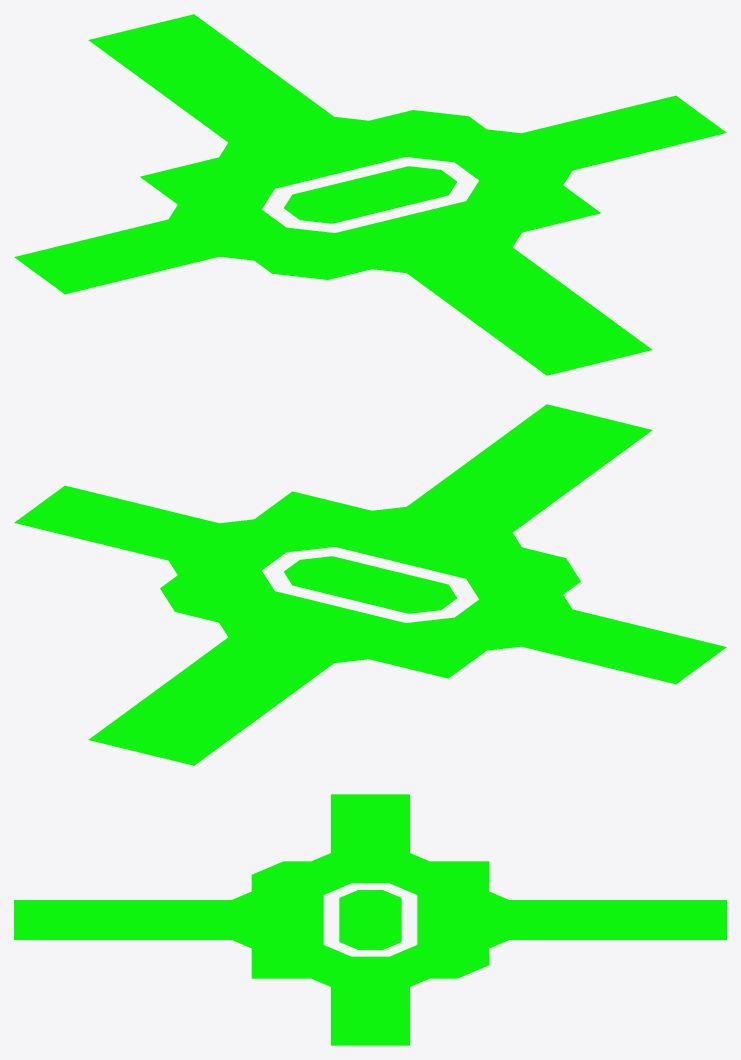
The model's file is s06a_xb2-floor.glb.
3 renders of one model, top to bottom at view 1: azimuth 30°, elevation 25°; view 2: azimuth 150°, elevation 25°; view 3: azimuth 270°, elevation 25°, orthographic. The views are drawn at different scales.
Parts seen in each view (by area): view 1: collision_floor-colonly; view 2: collision_floor-colonly; view 3: collision_floor-colonly.
Part boxes in pixels (x1,y1,x2,y2): collision_floor-colonly: (14, 14, 726, 375); collision_floor-colonly: (14, 404, 726, 765); collision_floor-colonly: (14, 794, 726, 1045).
Size of the model in its own units: 75 by 0.1016 by 90.
